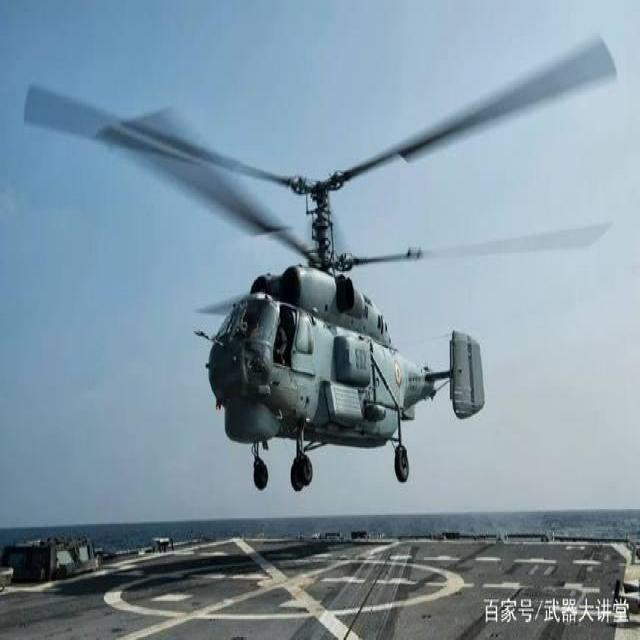MIL_HELO: (26, 37, 613, 504)
